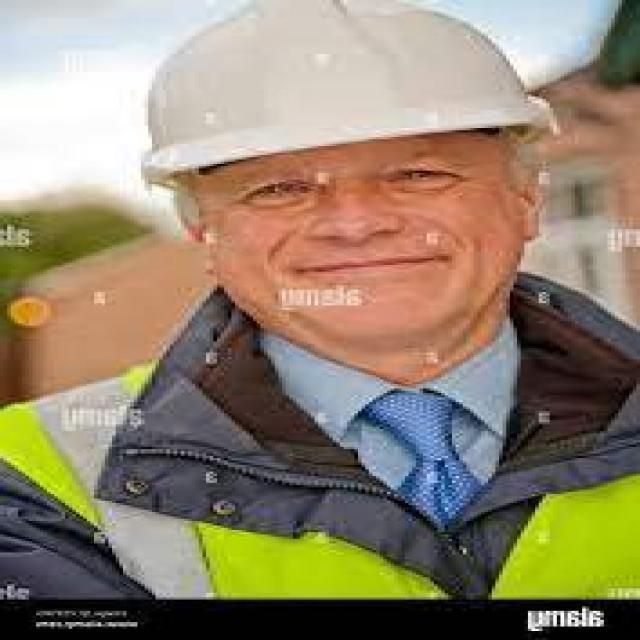reflective_jacket: (0, 339, 636, 599)
safety_helmet: (126, 4, 556, 172)
